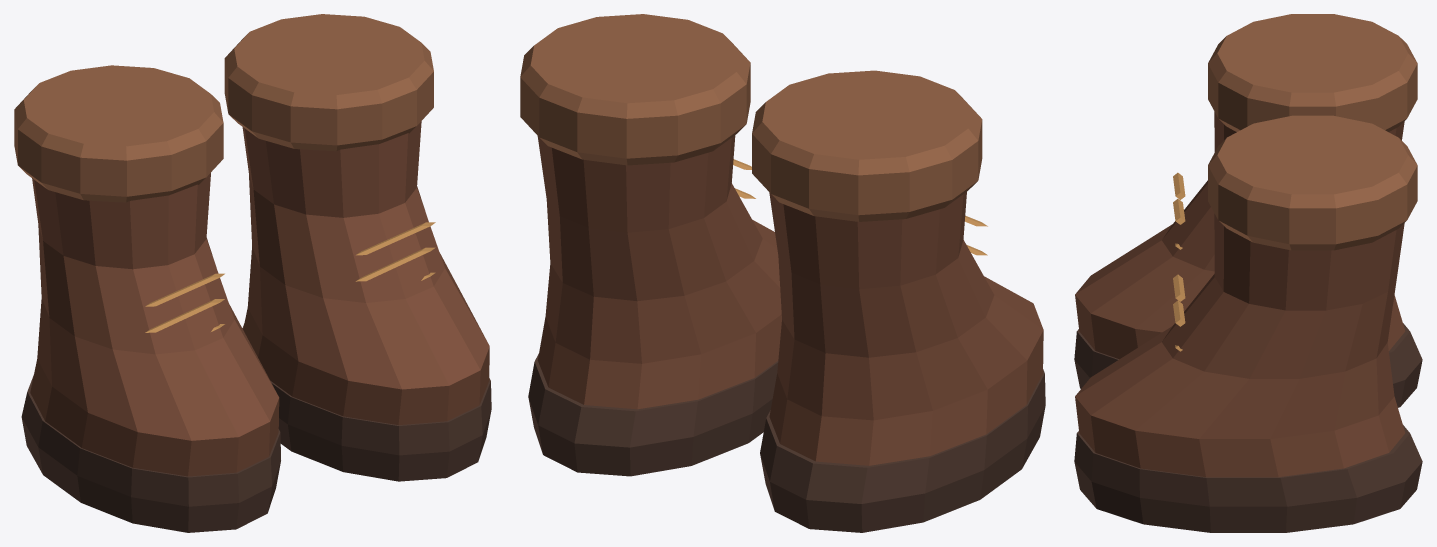
The model's file is Boots.obj.
3 renders of one model, left to right at view 1: azimuth 30°, elevation 25°; view 2: azimuth 150°, elevation 25°; view 3: azimuth 270°, elevation 25°, orthographic. The views are drawn at different scales.
Visible parts, largest first — view 1: Body; view 2: Body; view 3: Body.
Part boxes in pixels (box(x1,y1,x2,y2)): Body: box(14, 14, 491, 532); Body: box(520, 14, 1045, 532); Body: box(1074, 14, 1422, 532).
Bounding box in the file's own units: 0.7292 × 0.5915 × 0.558.
Materials: 1 (1 with a texture image).
